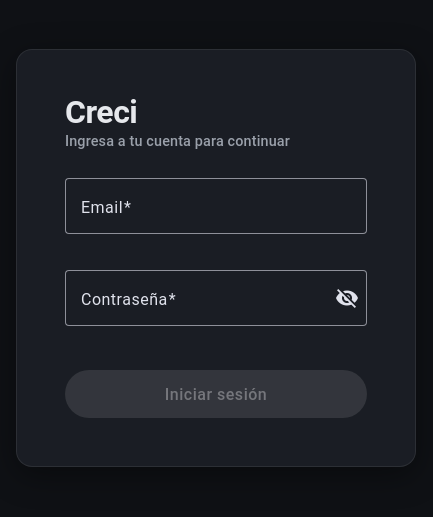
Test: LoginComponent › Estado de error del servicio › debe mostrar mensaje de error genérico para errores no 401
This screenshot has width=433, height=517.
Type "user@example.com" into the field named "Dirección de email" at (216, 206), box [81,194,351,218]
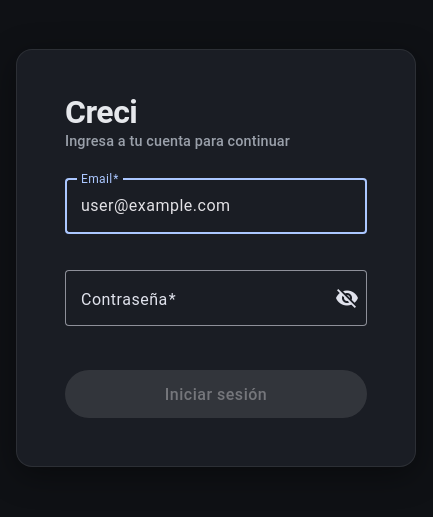
Type "password123" into the password field labelled "Contraseña" at (202, 298), box [81,286,323,310]
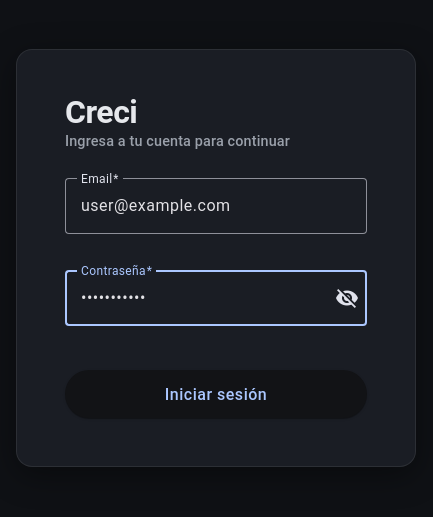
Click the button "Iniciar sesión" at (216, 394), box [65,370,367,418]
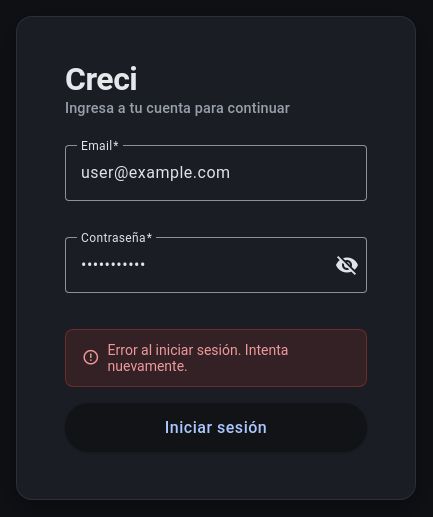
Now the message "Error al iniciar sesión. Intenta nuevamente." is shown, box [65,329,367,387]
Now the text "Error al iniciar sesión. Intenta nuevamente." is shown, box [108,342,288,374]
